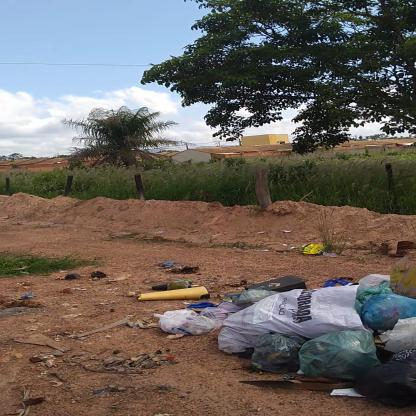lixo: (132, 275, 416, 411)
